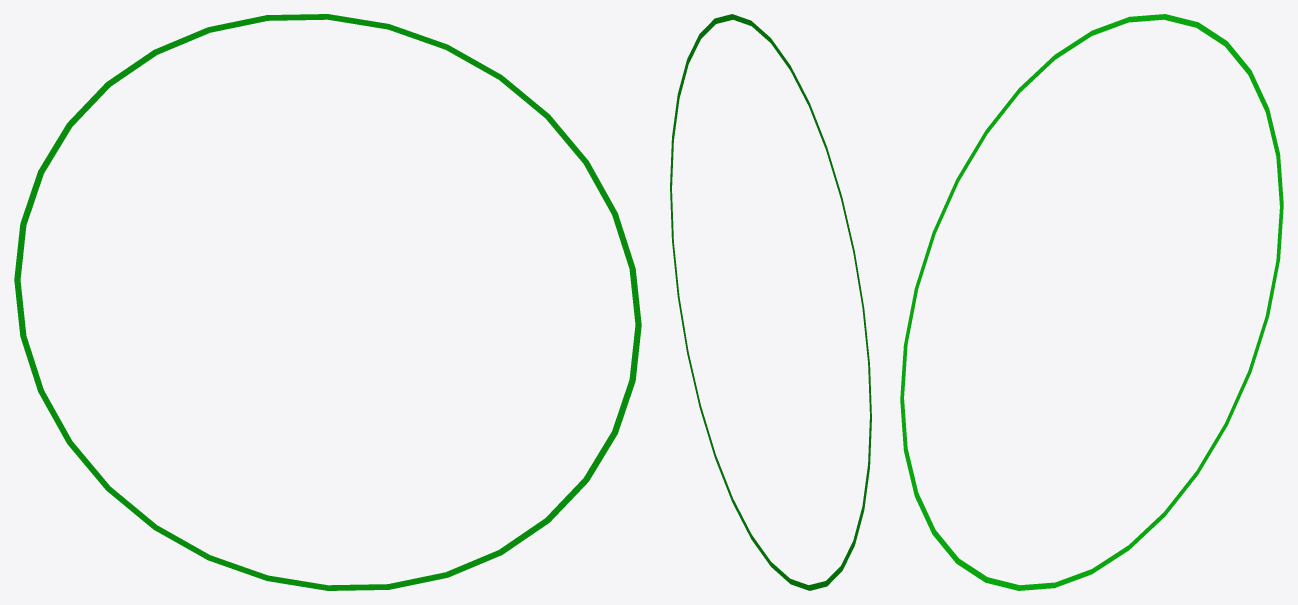
3 renders of one model, left to right at view 1: azimuth 30°, elevation 25°; view 2: azimuth 150°, elevation 25°; view 3: azimuth 270°, elevation 25°, orthographic. The views are drawn at different scales.
Visible parts, largest first — view 1: Окружность; view 2: Окружность; view 3: Окружность.
Boxes of the visible parts, bbox=[...] form: Окружность: bbox=[14, 14, 641, 590]; Окружность: bbox=[670, 14, 871, 590]; Окружность: bbox=[900, 14, 1283, 590].
Bounding box in the file's own units: 4.53 × 5.89 × 3.76.
